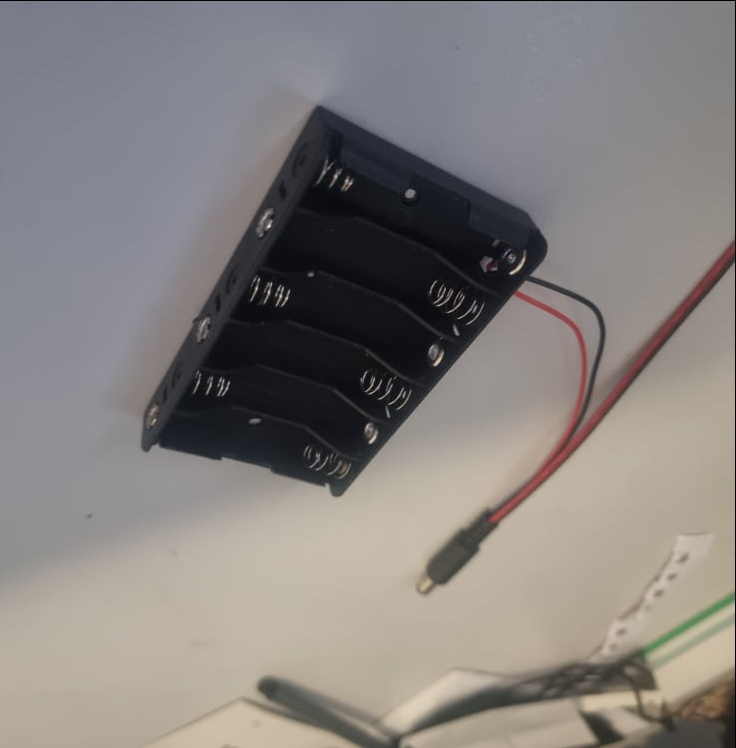BATTERY BOX: (144, 101, 551, 497)
